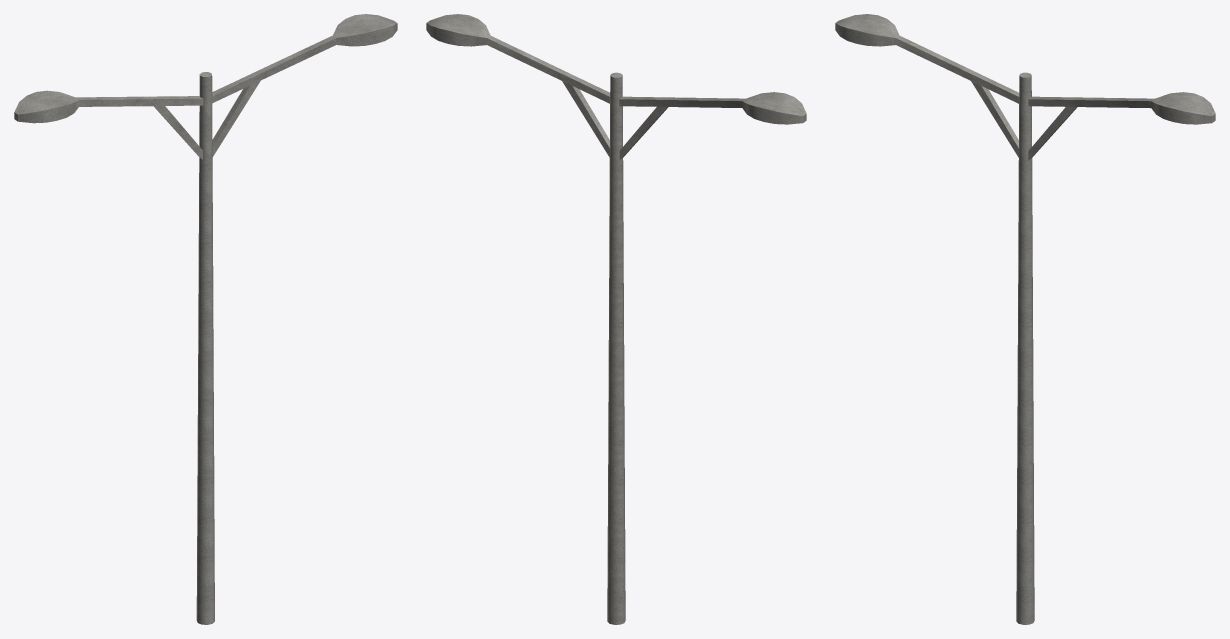
File: ludeng.FBX
3 renders of one model, left to right at view 1: azimuth 30°, elevation 25°; view 2: azimuth 150°, elevation 25°; view 3: azimuth 330°, elevation 25°, orthographic.
Visible parts, largest first — view 1: ludeng; view 2: ludeng; view 3: ludeng.
Part boxes in pixels (x1,y1,x2,y2): ludeng: [14, 14, 397, 624]; ludeng: [426, 14, 806, 624]; ludeng: [835, 14, 1215, 624].
Size of the model in its own units: 10.12 by 14.31 by 1.02.
1 material, 1 textured.
